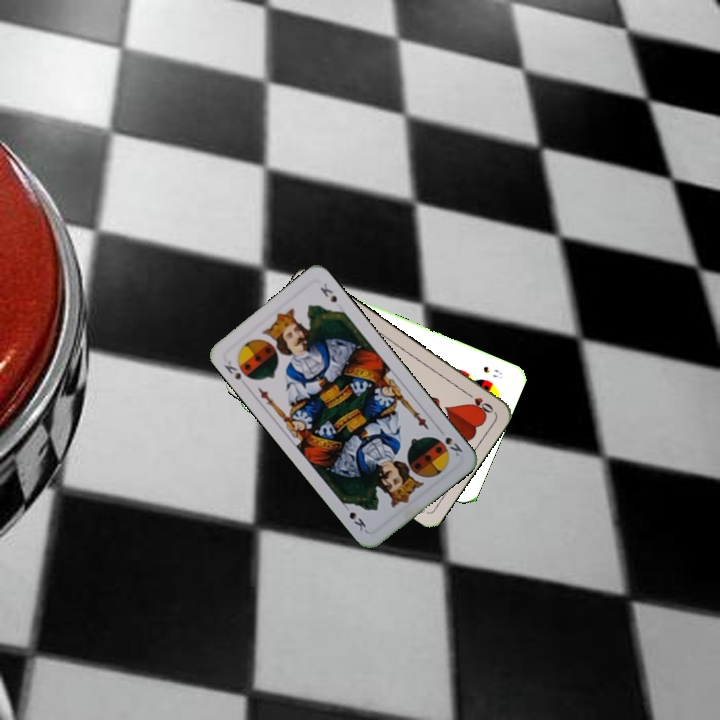HO: (461, 387, 496, 416)
S8: (479, 362, 505, 381)
SK: (434, 424, 465, 459), (220, 357, 244, 382)
